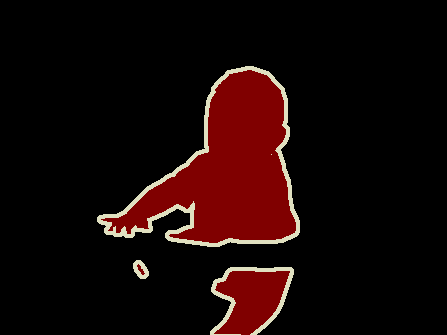person: (97, 66, 301, 335)
